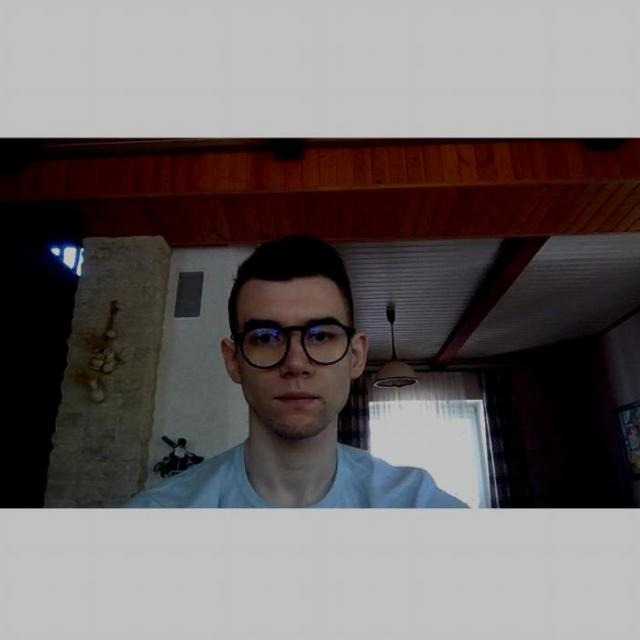live: (238, 282, 351, 438)
